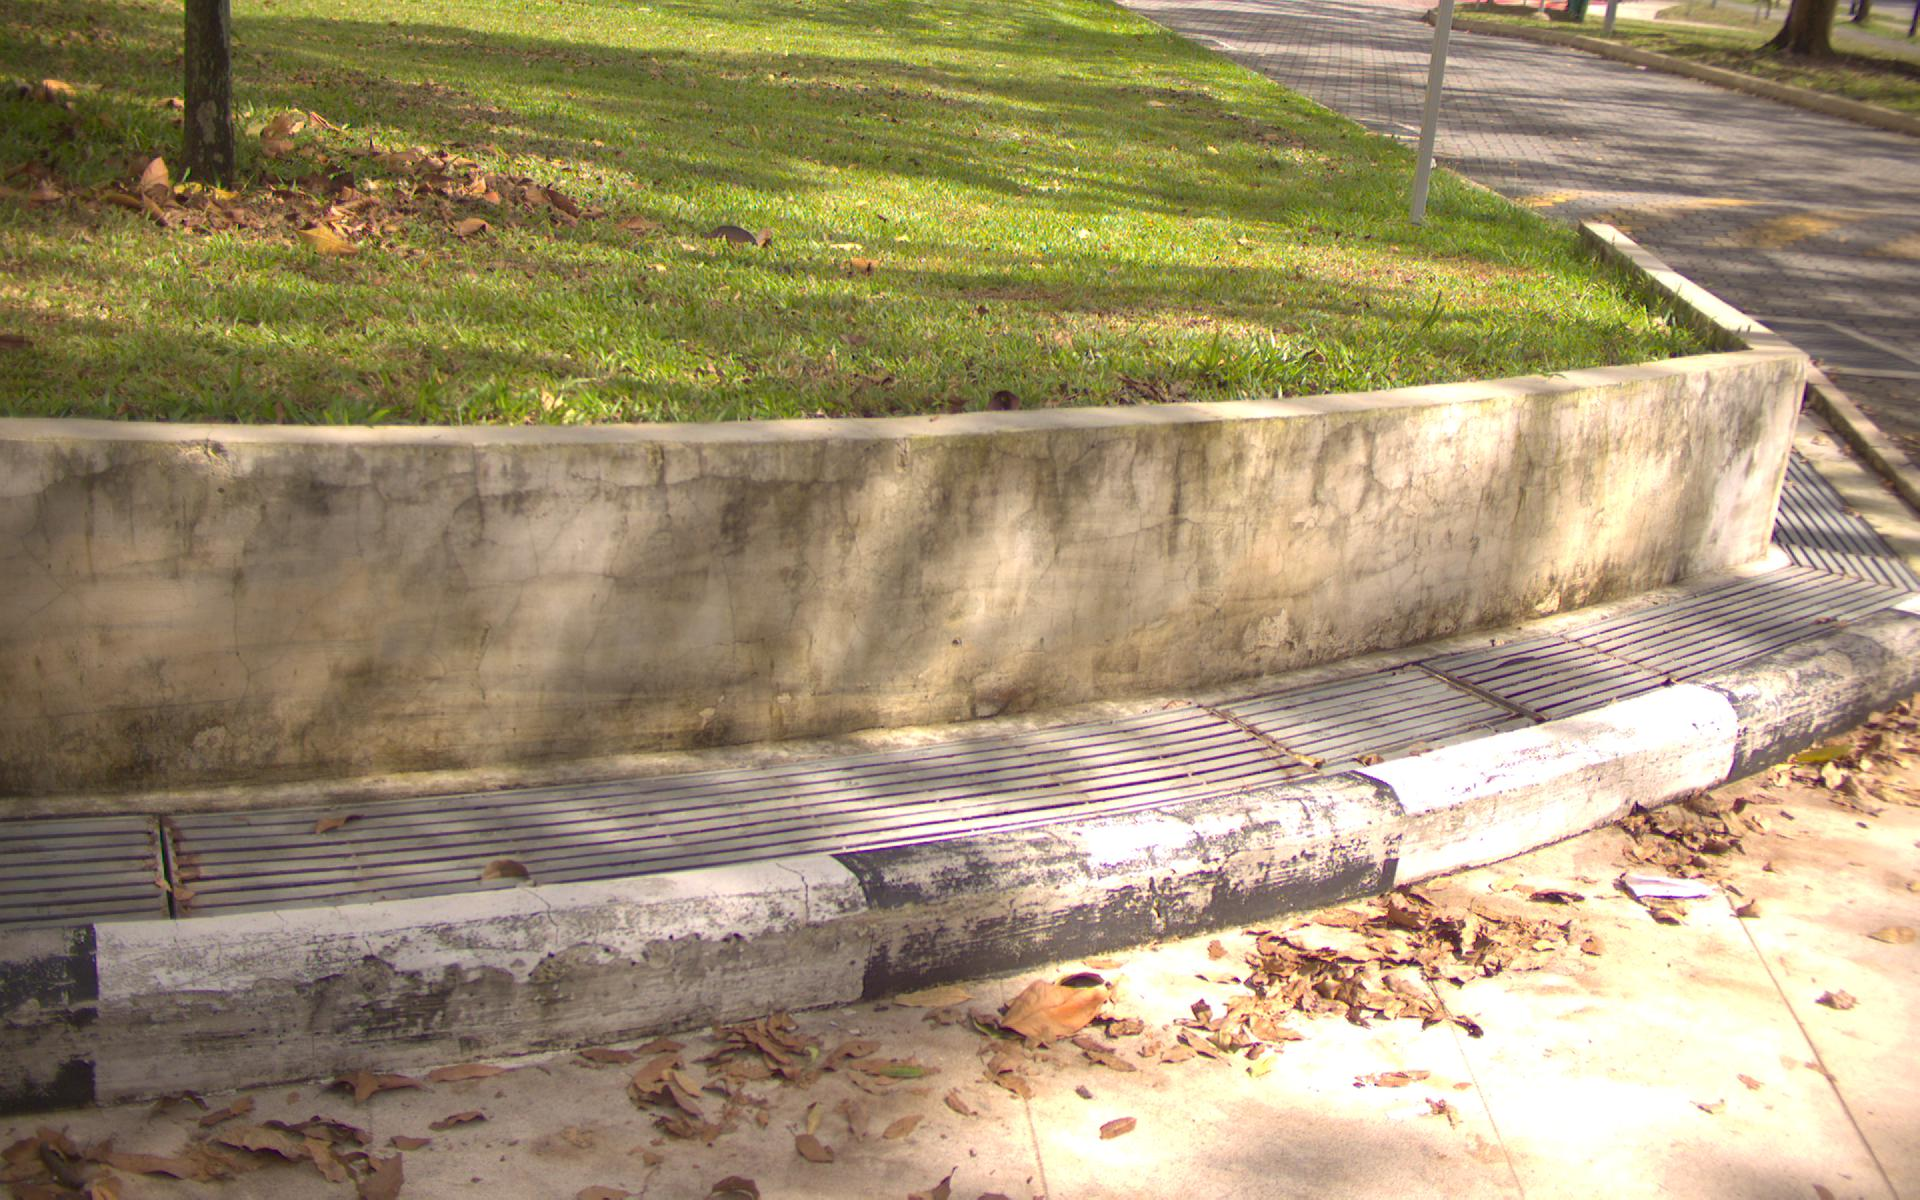curb_dic_low: (1, 778, 1044, 892)
pathway_low: (1471, 77, 1819, 192)
road_curb_medium: (745, 1024, 1920, 1200)
road_turf_low: (10, 36, 1174, 379)
